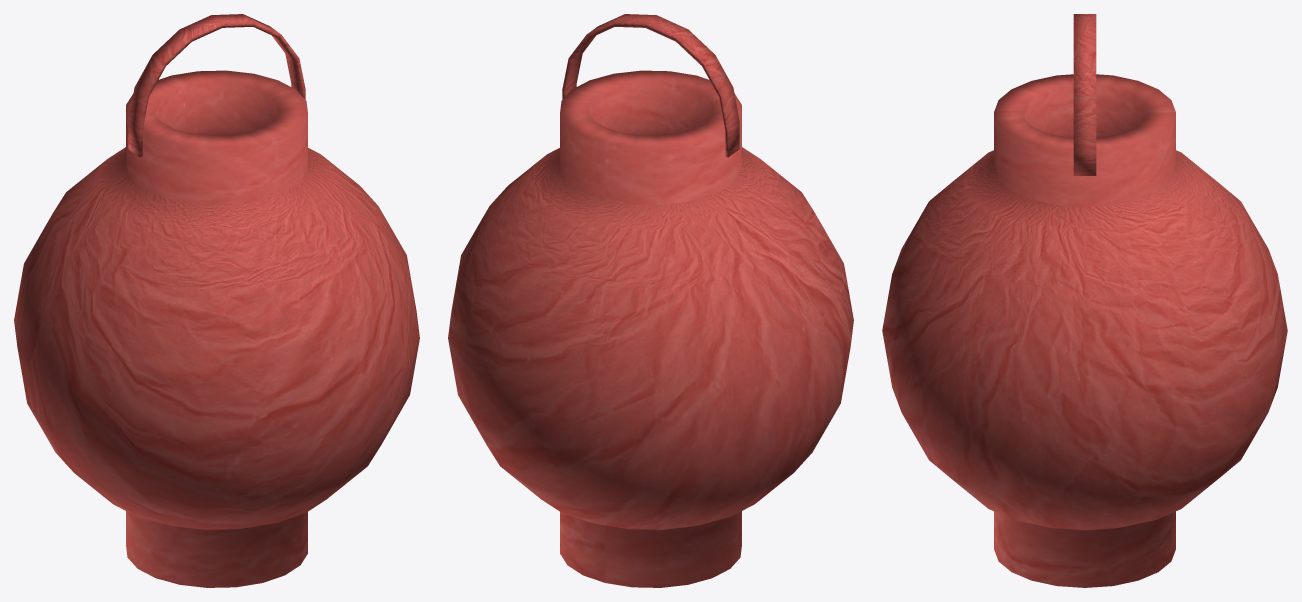
The model's file is lanterna-export.fbx.
3 renders of one model, left to right at view 1: azimuth 30°, elevation 25°; view 2: azimuth 150°, elevation 25°; view 3: azimuth 270°, elevation 25°, orthographic.
Visible parts, largest first — view 1: Esfera UV; view 2: Esfera UV; view 3: Esfera UV.
Boxes of the visible parts, x1,y1,x2,y2 form: Esfera UV: (14, 14, 419, 587); Esfera UV: (448, 14, 853, 587); Esfera UV: (882, 14, 1287, 587).
Size of the model in its own units: 2.18 by 3.13 by 2.18.
